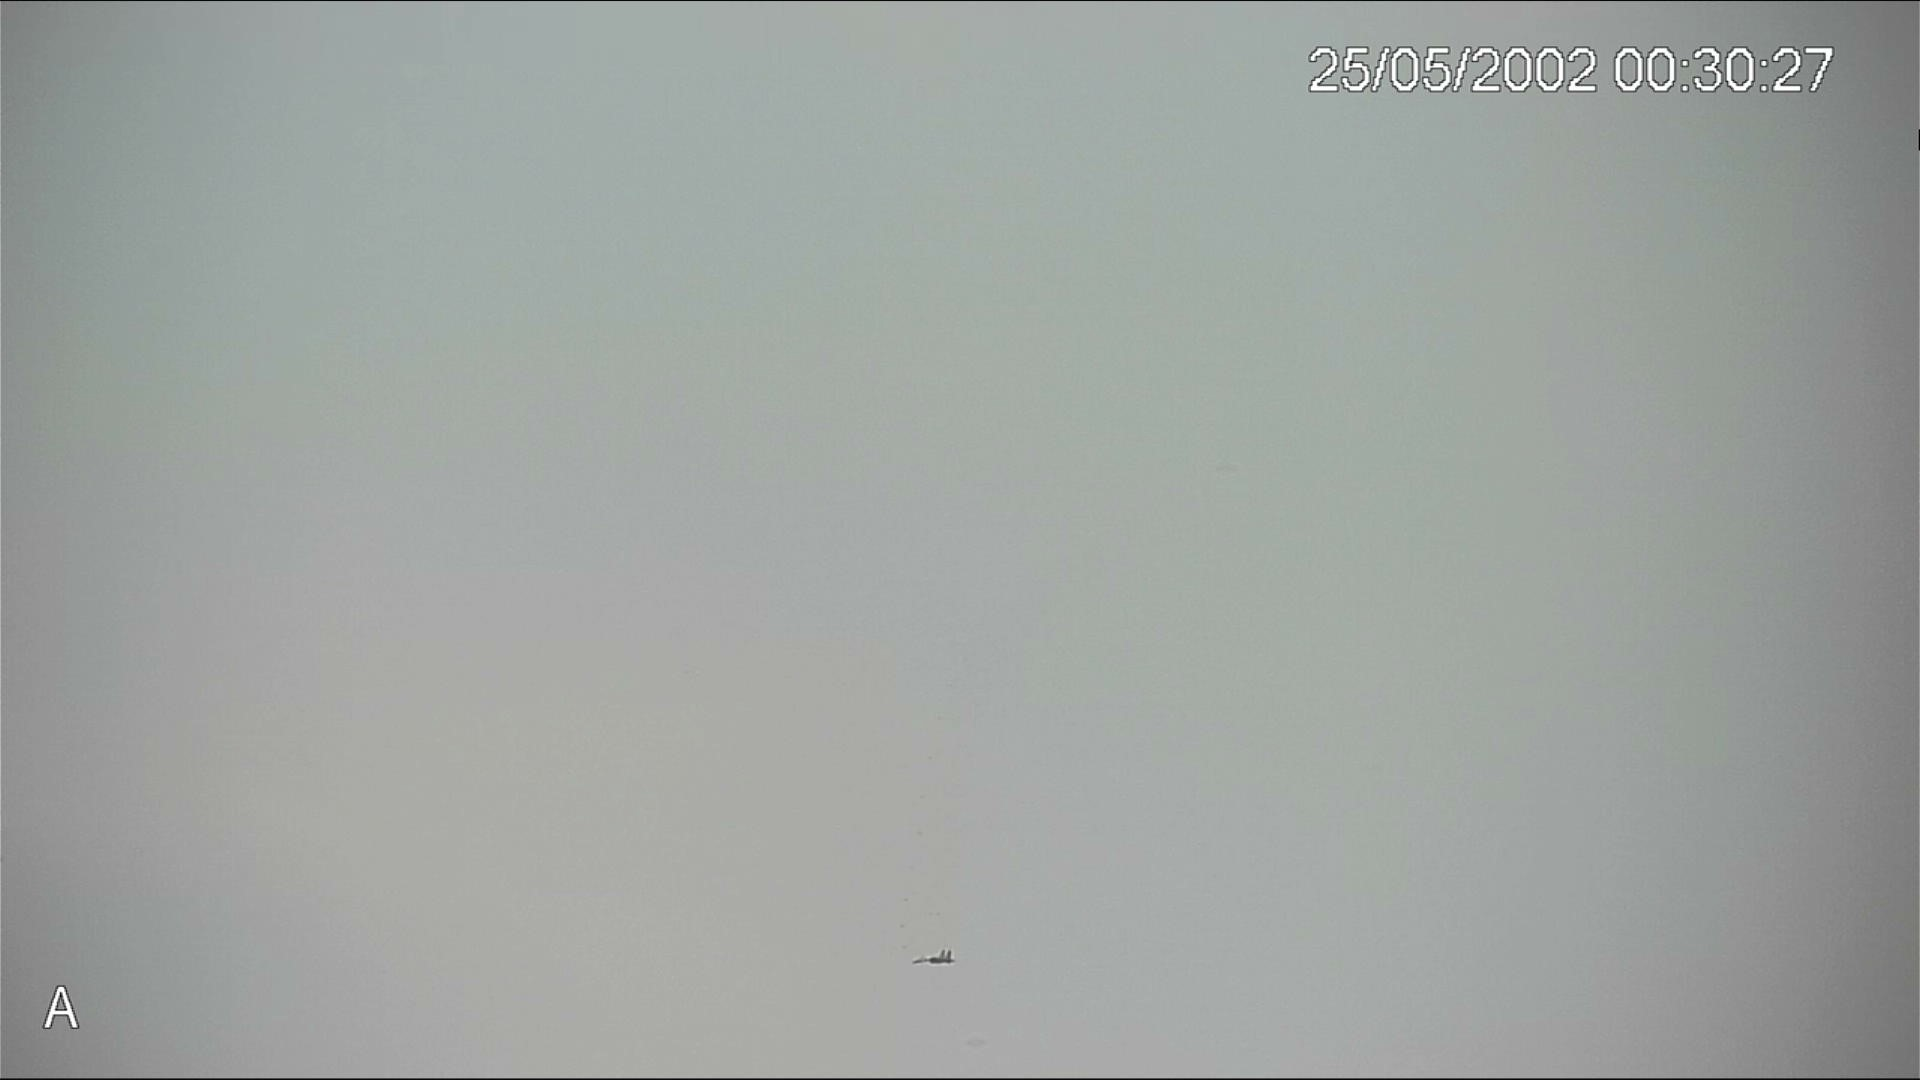SU_30: (913, 945, 956, 968)
